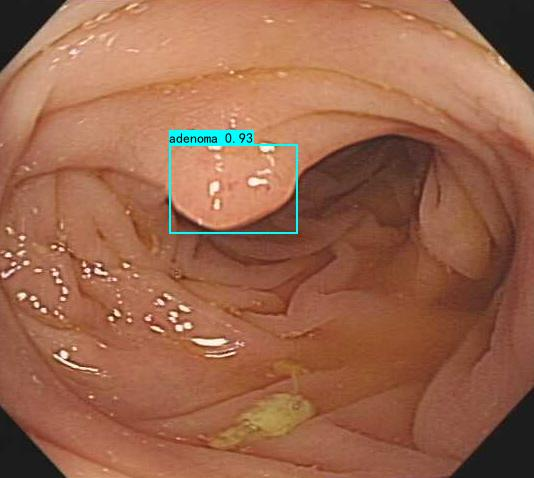others: (161, 136, 300, 234)
